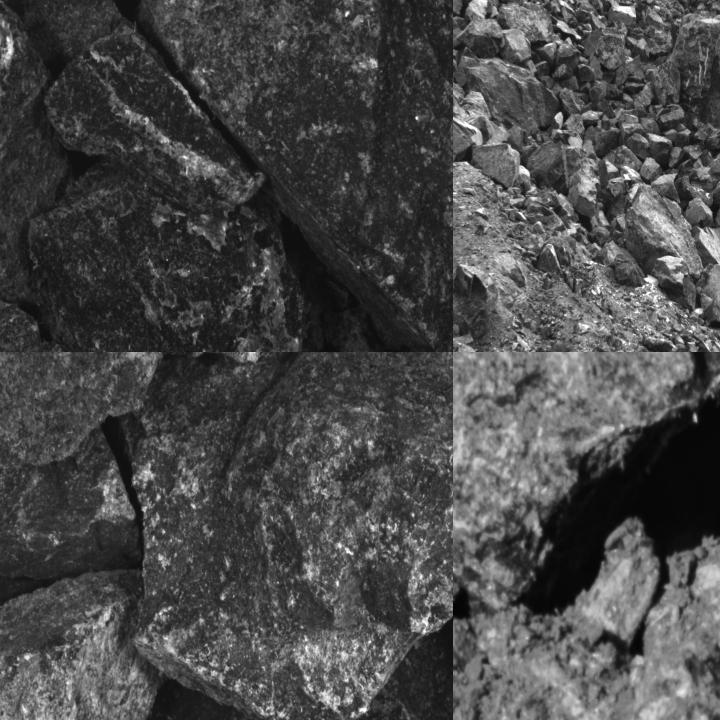stone: (120, 352, 452, 719), (140, 0, 452, 351), (453, 352, 719, 601), (11, 0, 265, 212), (28, 157, 303, 351), (0, 0, 78, 331), (0, 568, 168, 719), (0, 423, 143, 578), (0, 352, 174, 468), (582, 520, 664, 638), (624, 180, 701, 283), (672, 21, 719, 133), (453, 263, 497, 336), (650, 254, 698, 313), (566, 140, 599, 214), (498, 2, 555, 44), (527, 140, 569, 197), (470, 143, 520, 189), (580, 26, 627, 70), (458, 17, 504, 58), (453, 115, 484, 164), (696, 263, 719, 329), (650, 60, 680, 107), (172, 352, 295, 362), (501, 29, 531, 66), (560, 88, 592, 118), (615, 254, 645, 286), (650, 174, 682, 203), (654, 102, 685, 131), (646, 133, 673, 164), (617, 108, 643, 140), (624, 133, 653, 158), (537, 244, 560, 274), (640, 155, 662, 184), (691, 123, 715, 143), (683, 141, 705, 161), (704, 128, 719, 152), (711, 172, 719, 204)
